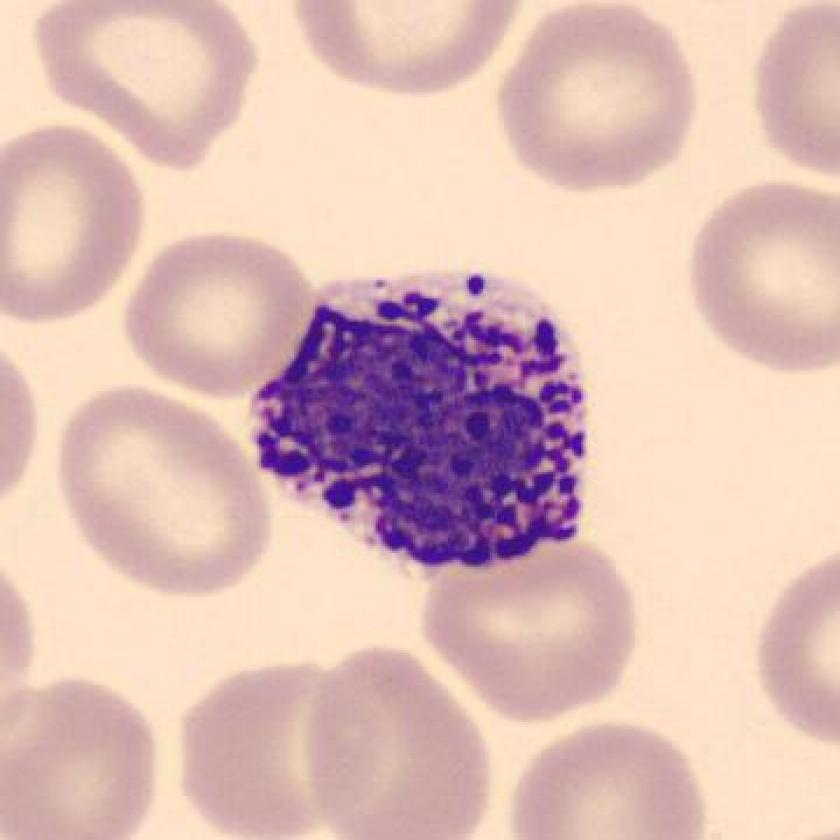basophil: (251, 265, 619, 573)
